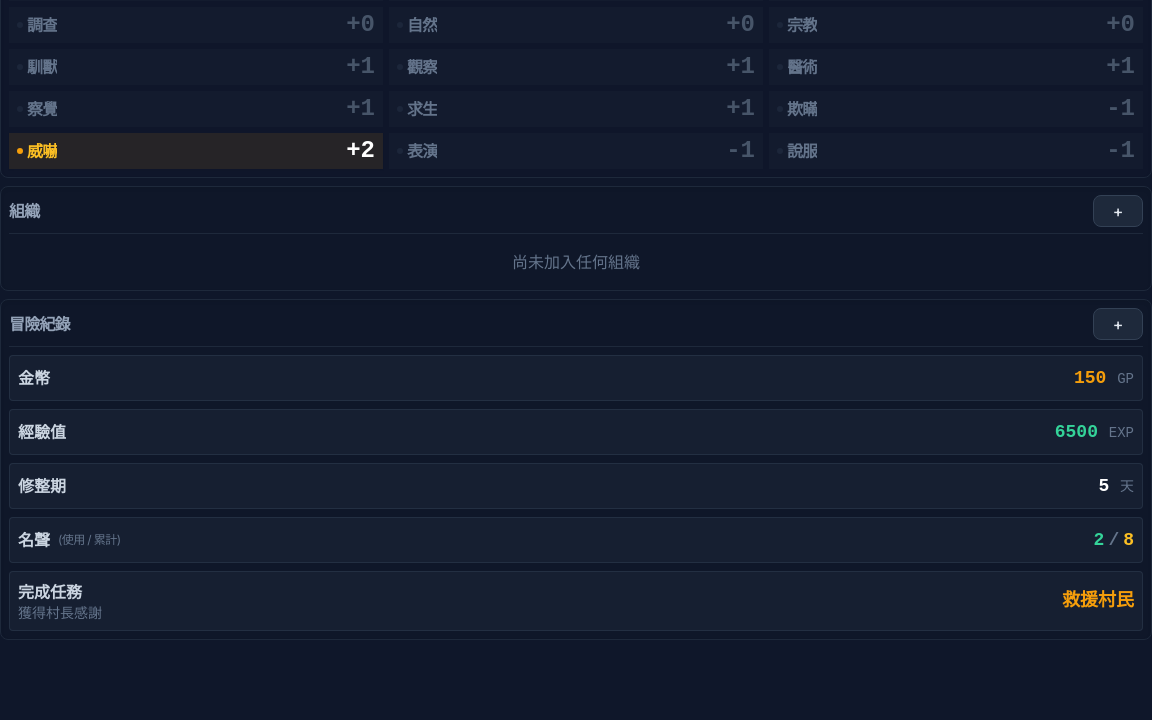
Test: CharacterSheet - Modal 開啟與儲存 › 各 modal 取消按鈕應關閉 modal 且不呼叫儲存
The width and height of the screenshot is (1152, 720).
(page scrolled)
Step 1. Click the text "經驗值" → (42, 432), box [18,420,66,444]
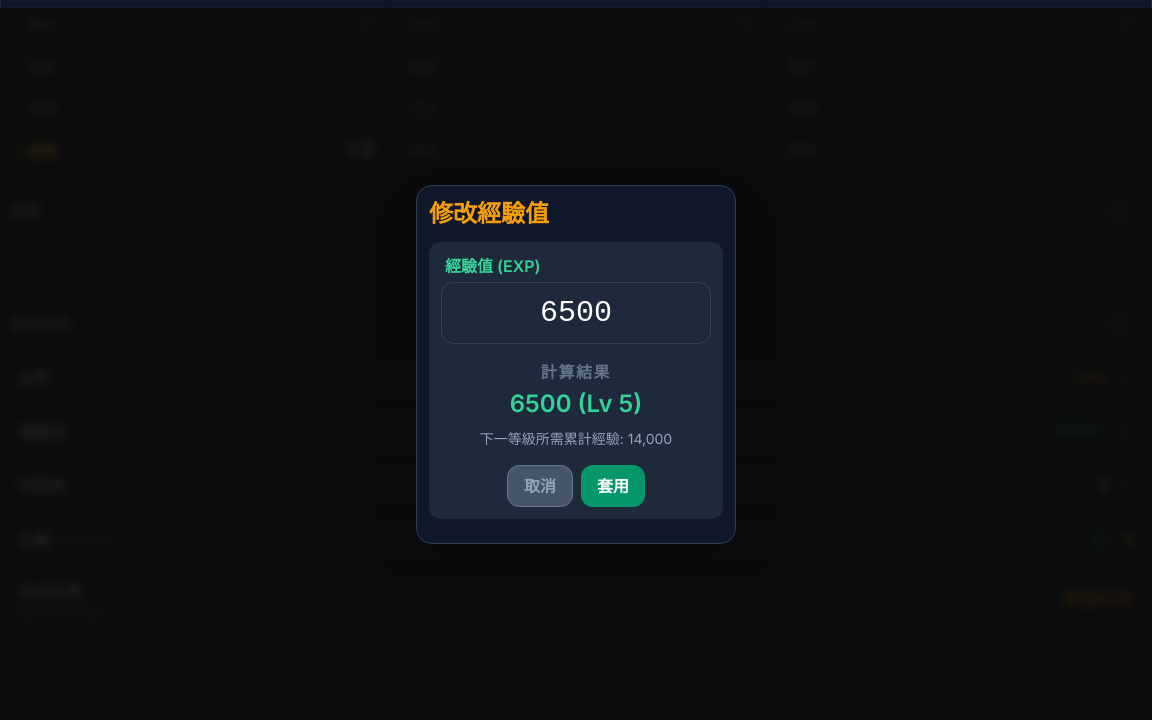
Check: the heading "修改經驗值" is shown, box [429,198,549,228]
Step 2. Click the button "取消" → (540, 486), box [507,464,573,506]
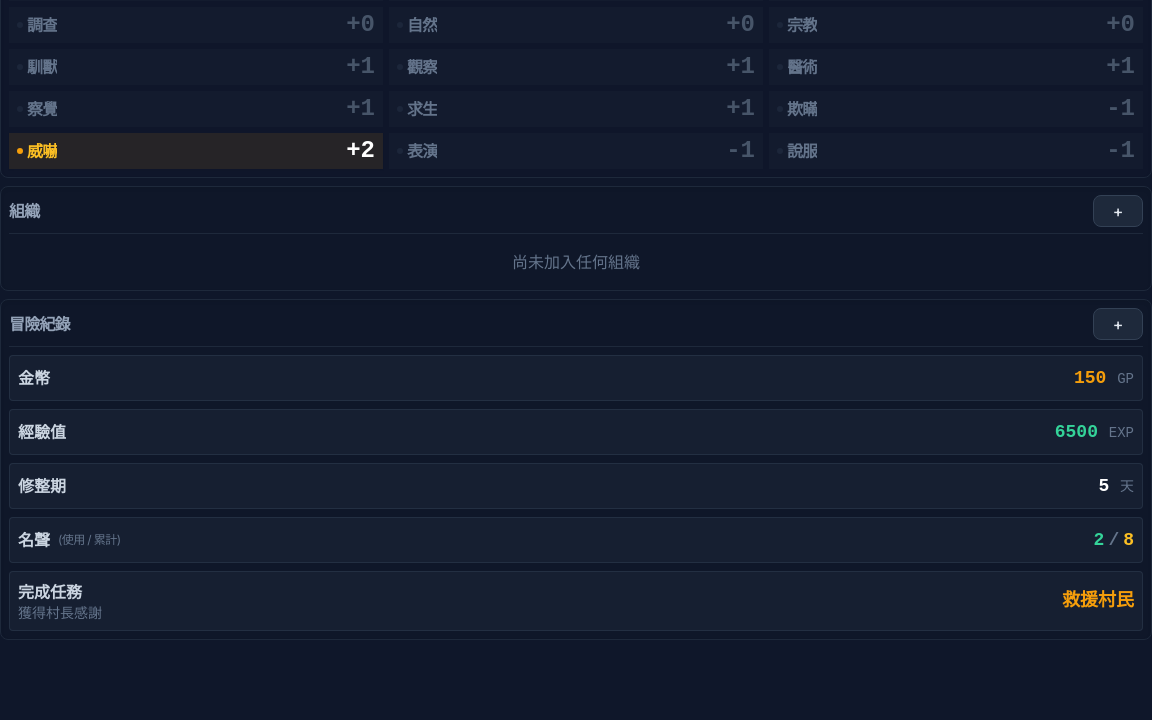
Check: the heading "修改經驗值" is gone
